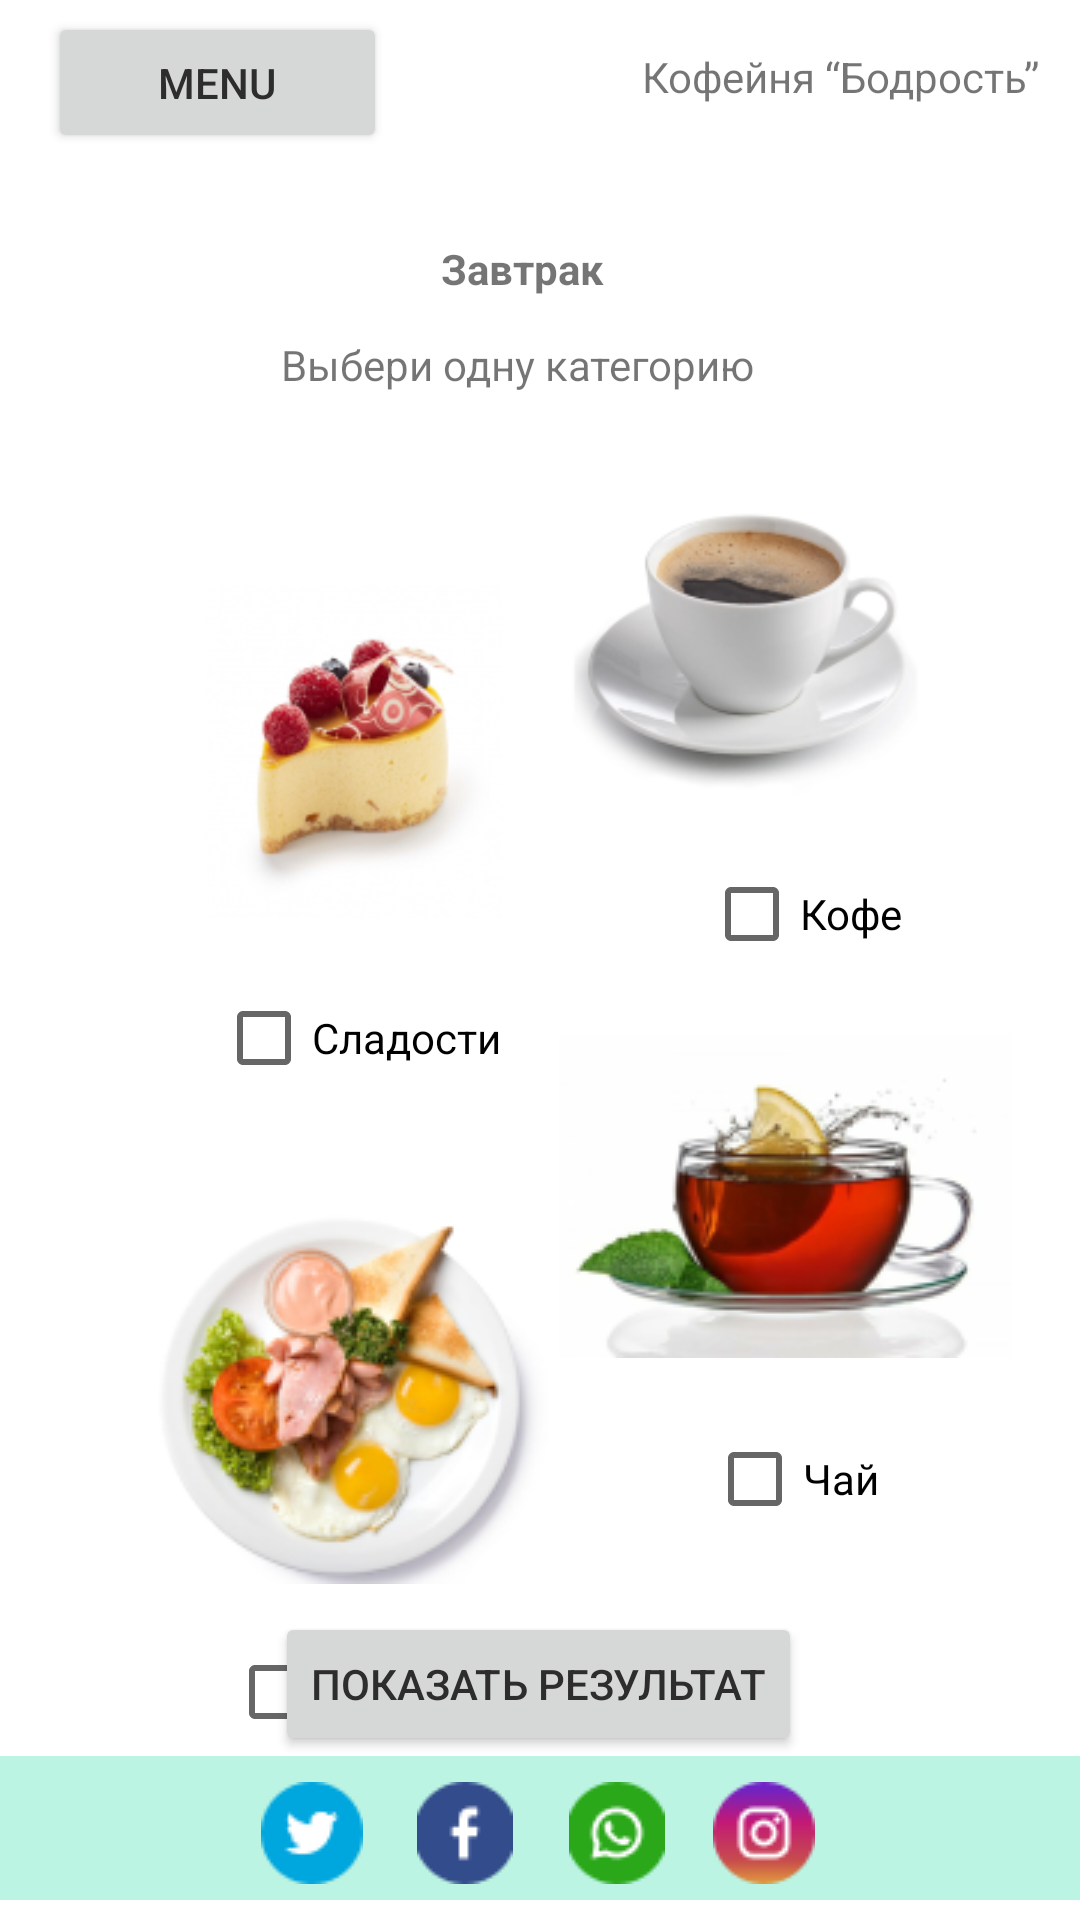

Named icons in this screenshot (1080 × 1920) and their bounding boxes, (x1, y1, x2, y2):
cake: (257, 639, 453, 874)
eggs: (182, 1226, 529, 1584)
